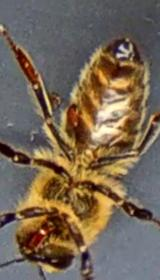varroa_mite: (61, 98, 87, 132)
